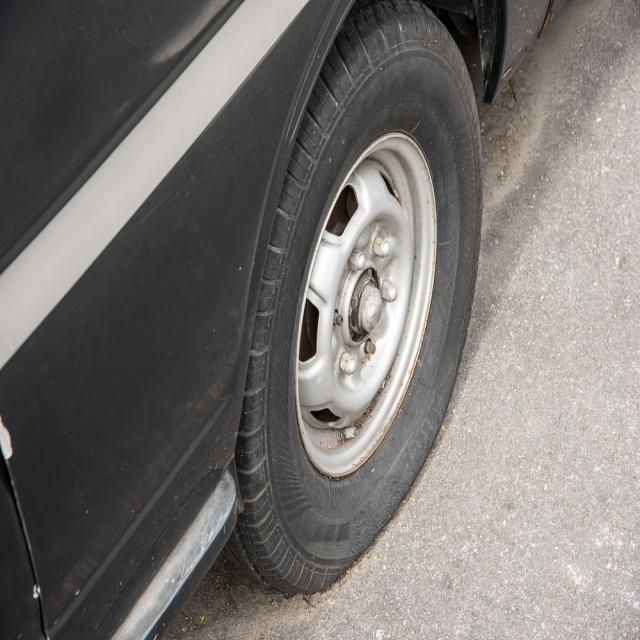tire flat: (228, 0, 485, 593)
